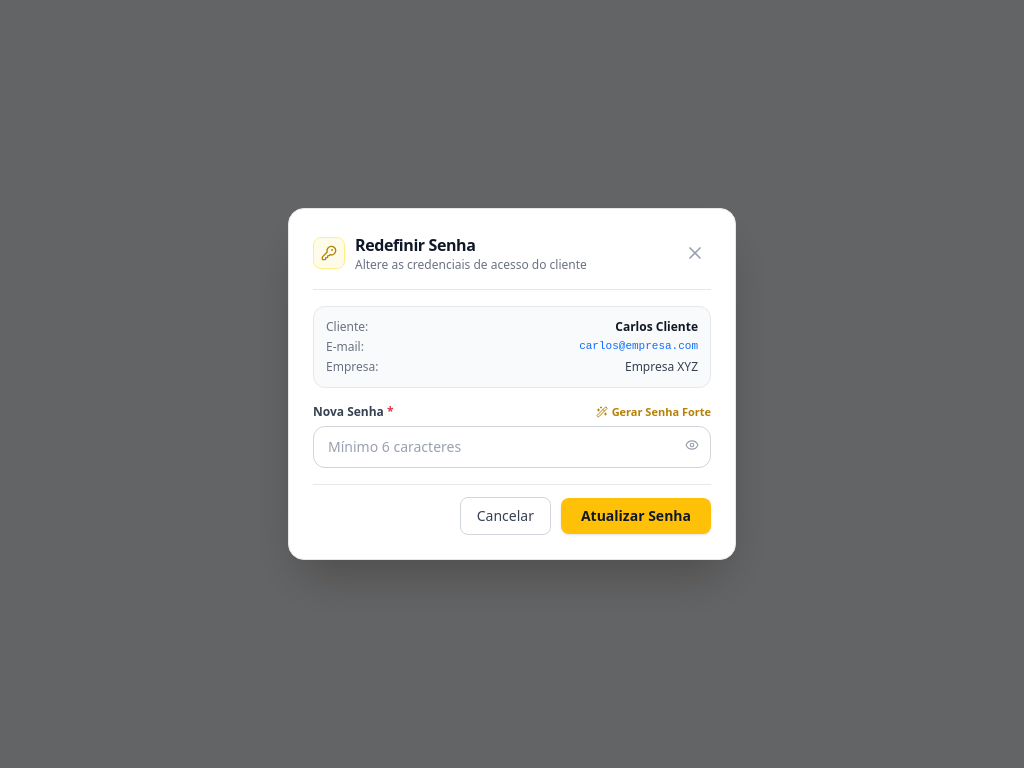
Test: components/suporte/ResetPasswordModal › should handle unexpected exception during submission
The image size is (1024, 768).
Type "SenhaCorreta@123" into the password field with placeholder "Mínimo 6 caracteres". click: (512, 447)
box: [313,426,711,468]
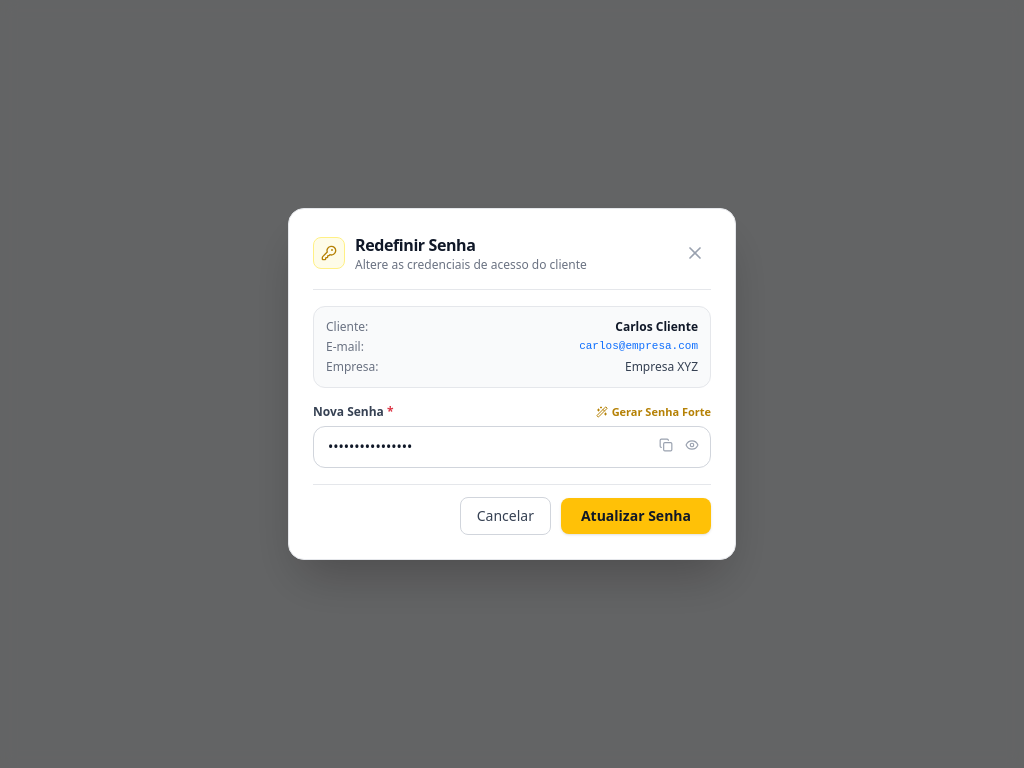
Click the button "Atualizar Senha". click: (636, 516)
box: [561,498,711,534]
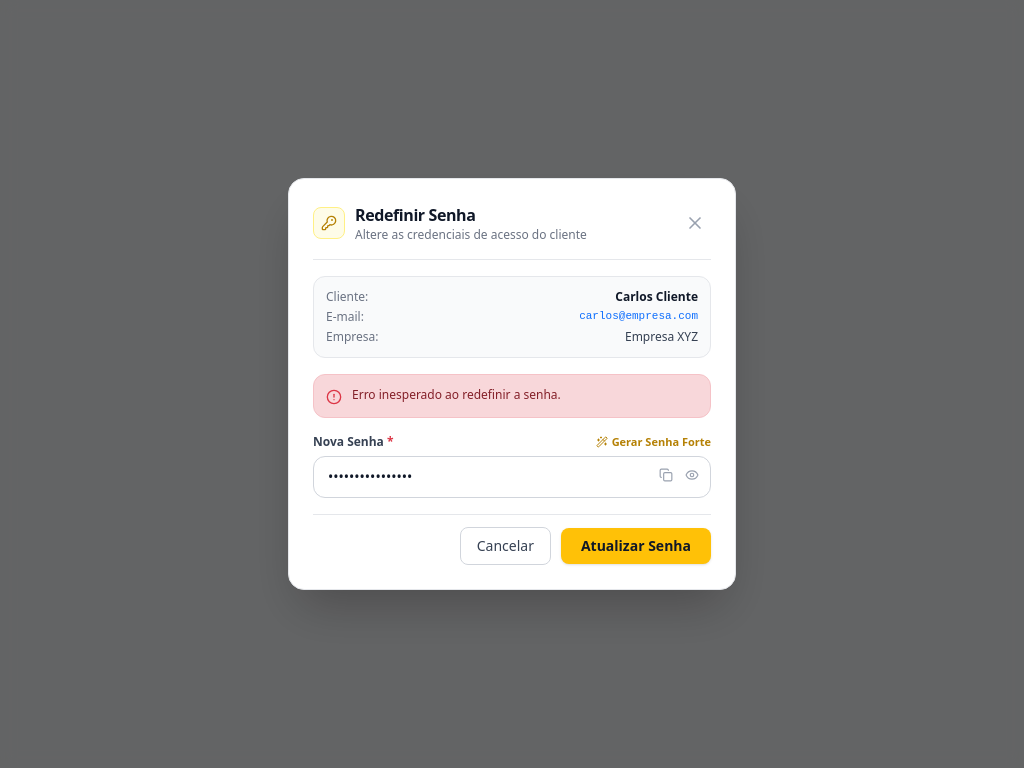
Check: the text "Erro inesperado ao redefinir a senha." is shown, box [352,387,561,403]
